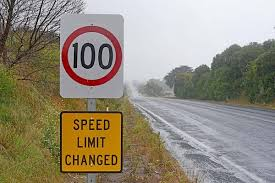Speed_limit_100km: (61, 26, 122, 87)
